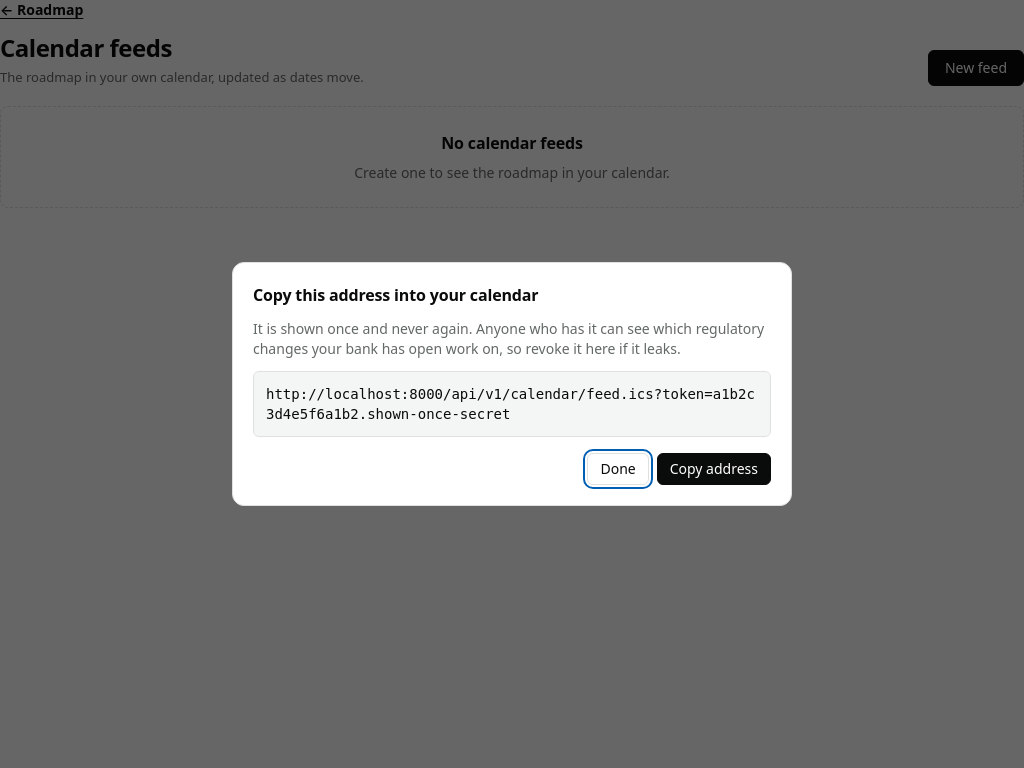
Test case: calendar feeds › keeps the address on screen through Escape and a click outside, so only Done can drop it
Earlier steps of the test are not shown.
Expected: the dialog "Copy this address into your calendar" shows "http://localhost:8000/api/v1/calendar/feed.ics?token=a1b2c3d4e5f6a1b2.shown-once-secret", [266,386,755,422]
Click the button "Done" at [618, 469], box [587,453,649,485]
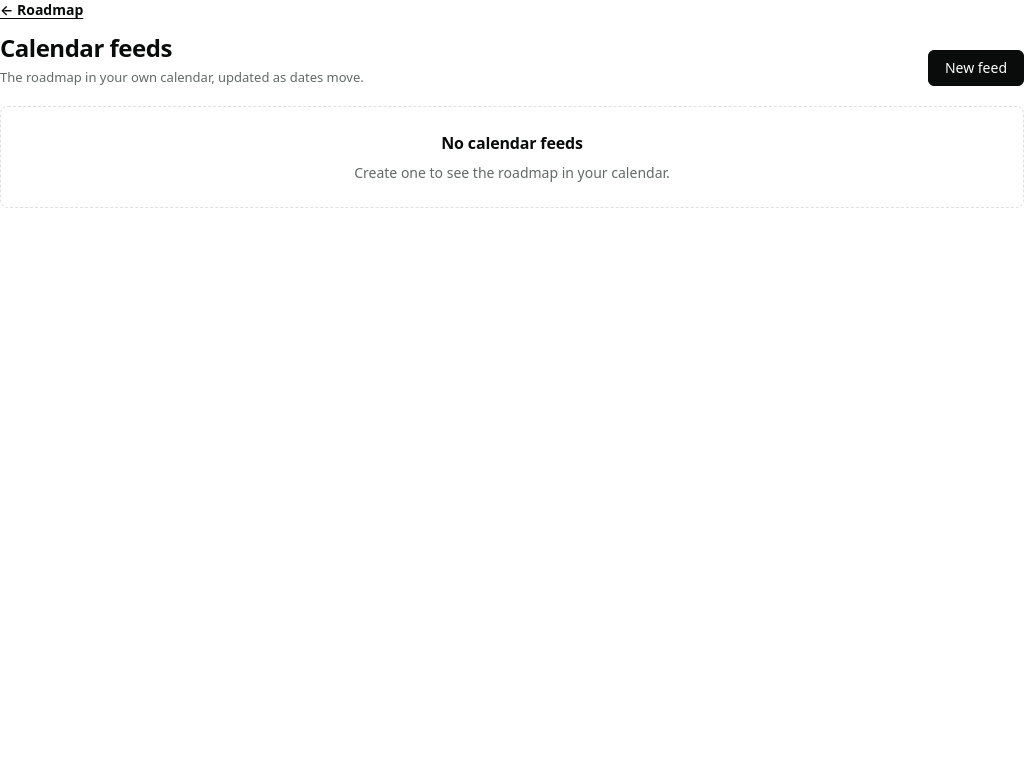
Result: the dialog is gone
